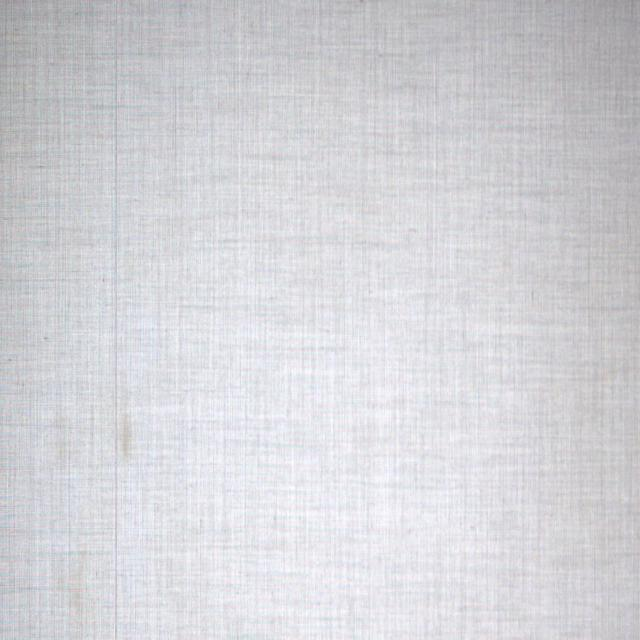dirty: (120, 414, 132, 458)
